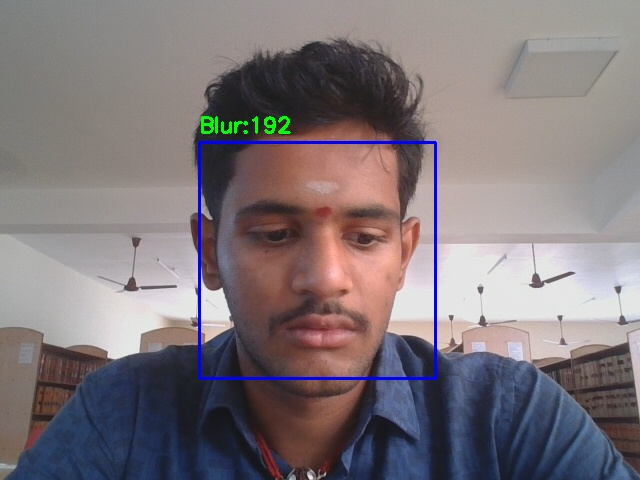real: (199, 142, 435, 378)
